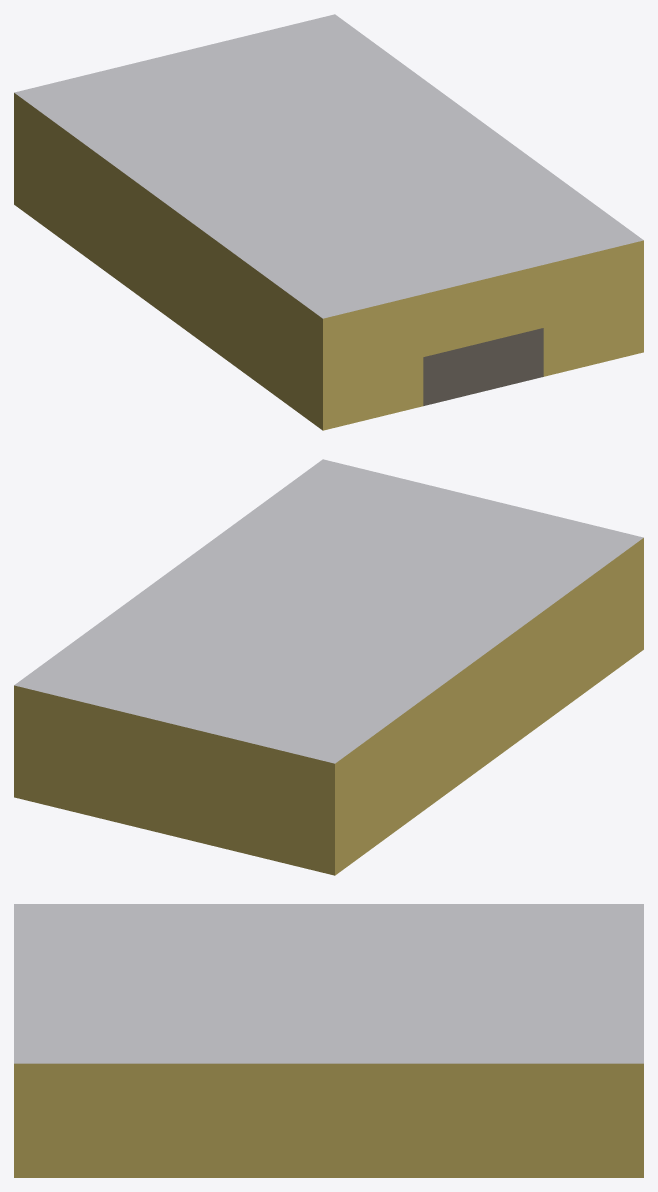
The model's file is level_fps_D.obj.
The picture shows the model from 3 angles, top to bottom: view 1: azimuth 30°, elevation 25°; view 2: azimuth 150°, elevation 25°; view 3: azimuth 270°, elevation 25°; orthographic projection.
Visible parts, largest first — view 1: D_far; view 2: D_far; view 3: D_far.
Part boxes in pixels (x1,y1,x2,y2): D_far: [14, 14, 643, 430]; D_far: [14, 459, 643, 875]; D_far: [14, 904, 643, 1177].
Bounding box in the file's own units: 24 × 8 × 40.
